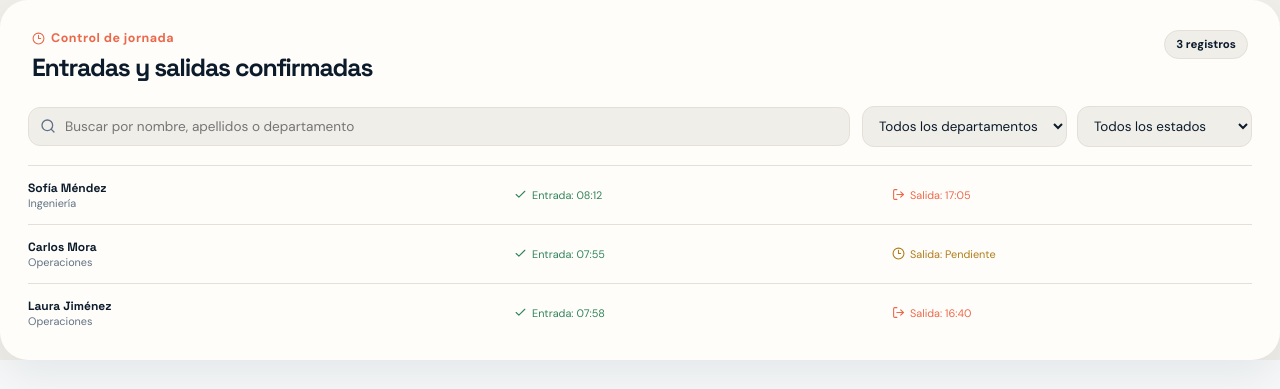
Test case: AttendanceMonitor y RequestReviewPanel › filtra entradas y salidas confirmadas por nombre sin tildes, departamento y estado
The width and height of the screenshot is (1280, 389).
Expected: the text "3 registros" is shown, [1164, 30, 1248, 59]
Type "sofia mendez" into the search field named "Buscar marca de jornada" at (439, 126), box [28, 107, 850, 146]
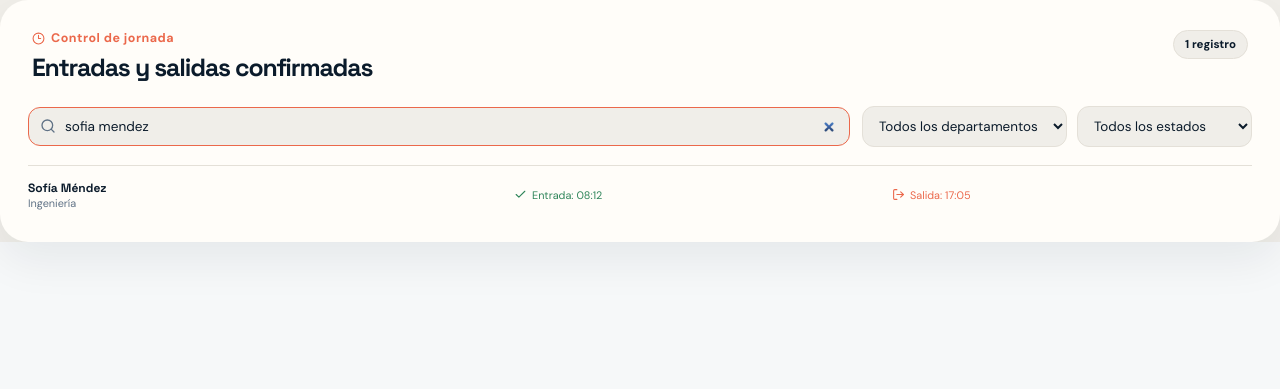
Expected: the text "Sofía Méndez" is shown, [28, 180, 106, 196]
Expected: the text "1 registro" is shown, [1173, 30, 1248, 59]
Expected: the text "Carlos Mora" is gone
Clear the search field named "Buscar marca de jornada" at (439, 126), box [28, 107, 850, 146]
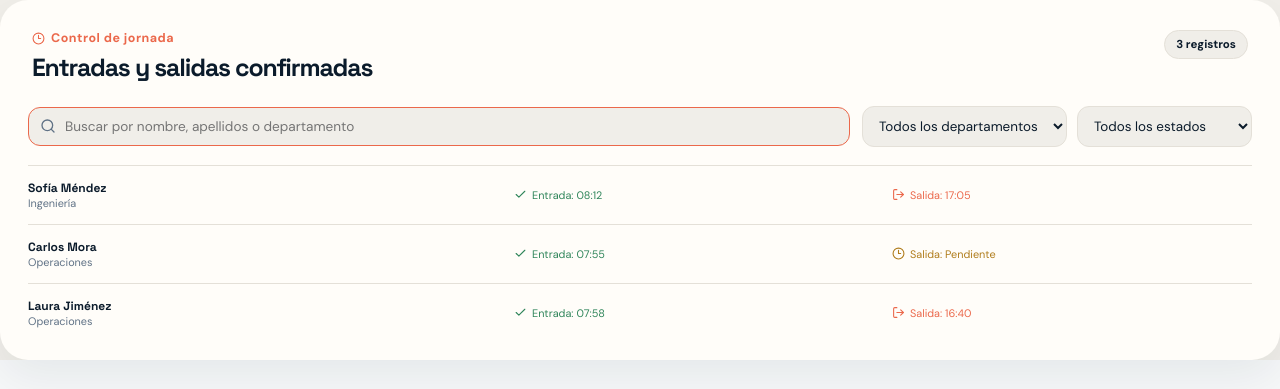
Select "Operaciones" in the dropdown named "Filtrar jornada por departamento" at (964, 126), box [862, 106, 1067, 147]
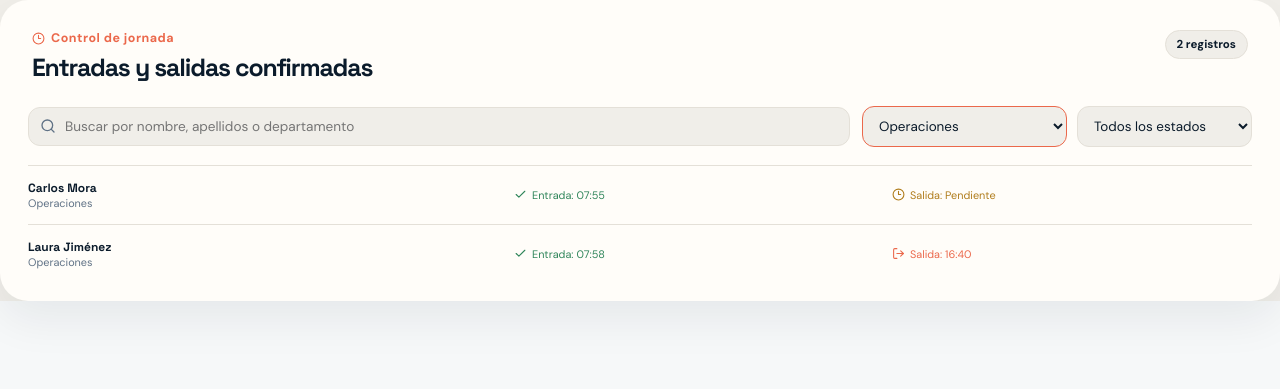
Select "Jornada en curso" in the dropdown named "Filtrar jornada por estado" at (1164, 126), box [1077, 106, 1252, 147]
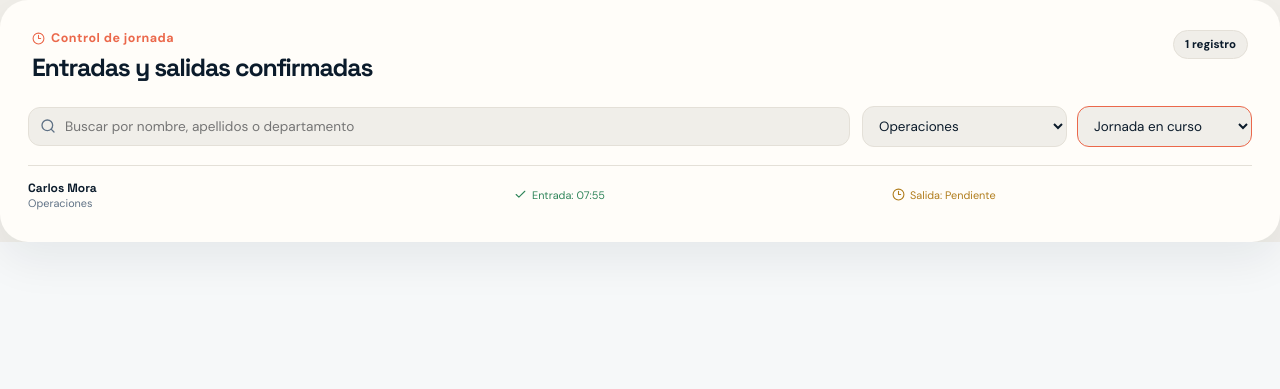
Expected: the text "Carlos Mora" is shown, [28, 180, 97, 196]
Expected: the text "1 registro" is shown, [1173, 30, 1248, 59]
Select "Llegada tardía" in the dropdown named "Filtrar jornada por estado" at (1164, 126), box [1077, 106, 1252, 147]
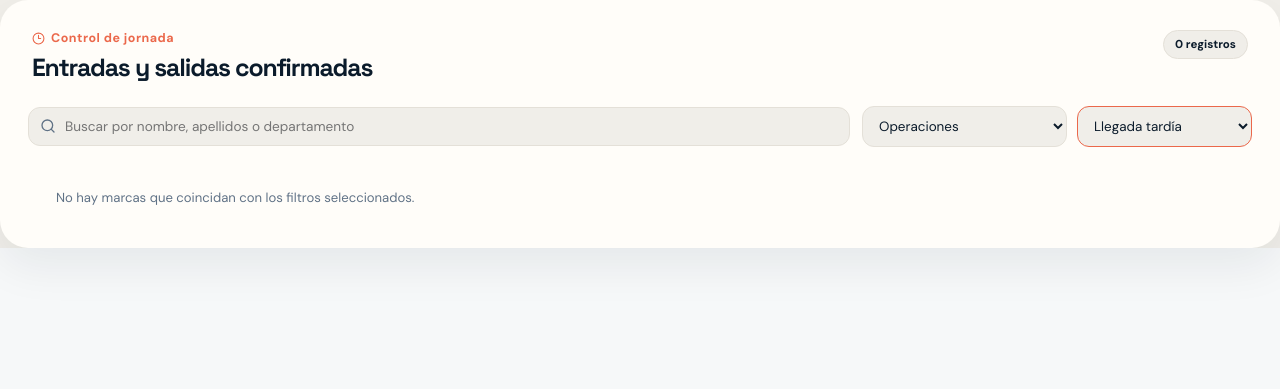
Expected: the text "0 registros" is shown, [1163, 30, 1248, 59]
Expected: the text "No hay marcas que coincidan con los filtros seleccionados." is shown, [56, 189, 414, 206]
